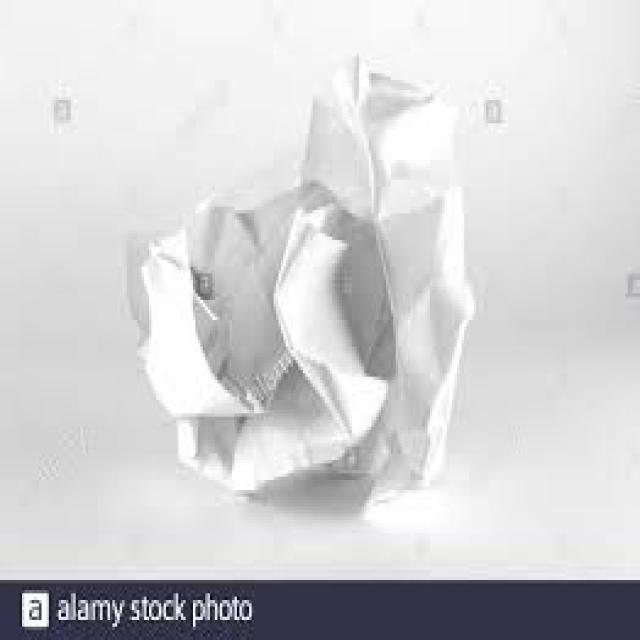paper: (127, 47, 471, 517)
